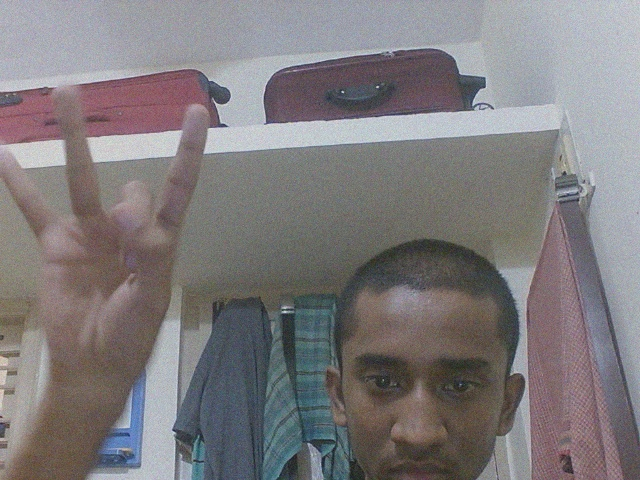hand: (1, 82, 213, 415)
